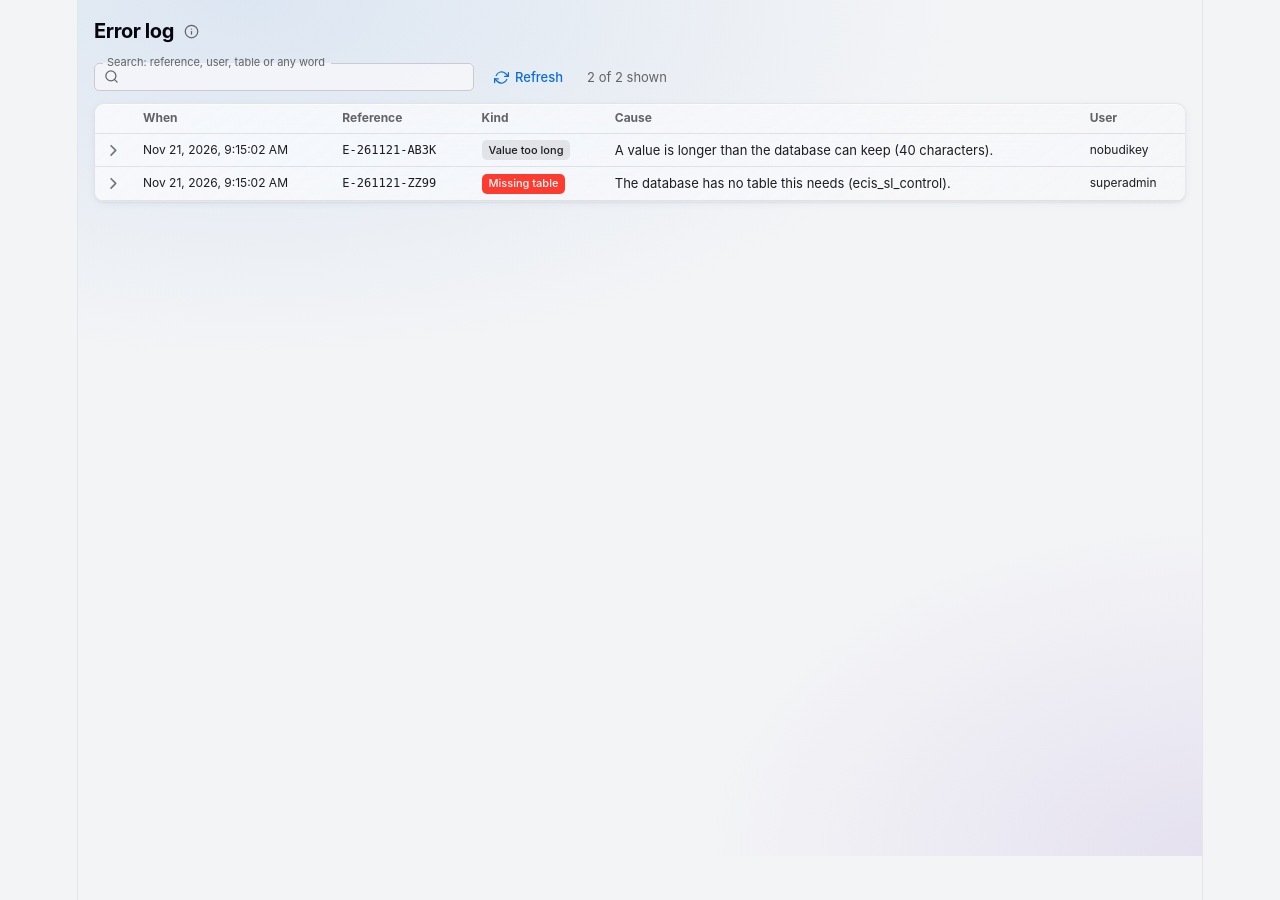
the error log › lists failures with their technical cause, finds one by the reference a person quotes, and opens its details
Expected: the text "A value is longer than the database can keep (40 characters)." is shown, left=603, top=133, right=1078, bottom=167
Expected: the text "Missing table" is shown, left=488, top=176, right=558, bottom=190
Type "E-261121-ZZ99" into the field labelled "Search: reference, user, table or any word" at coordinates (300, 77), box left=127, top=63, right=474, bottom=91
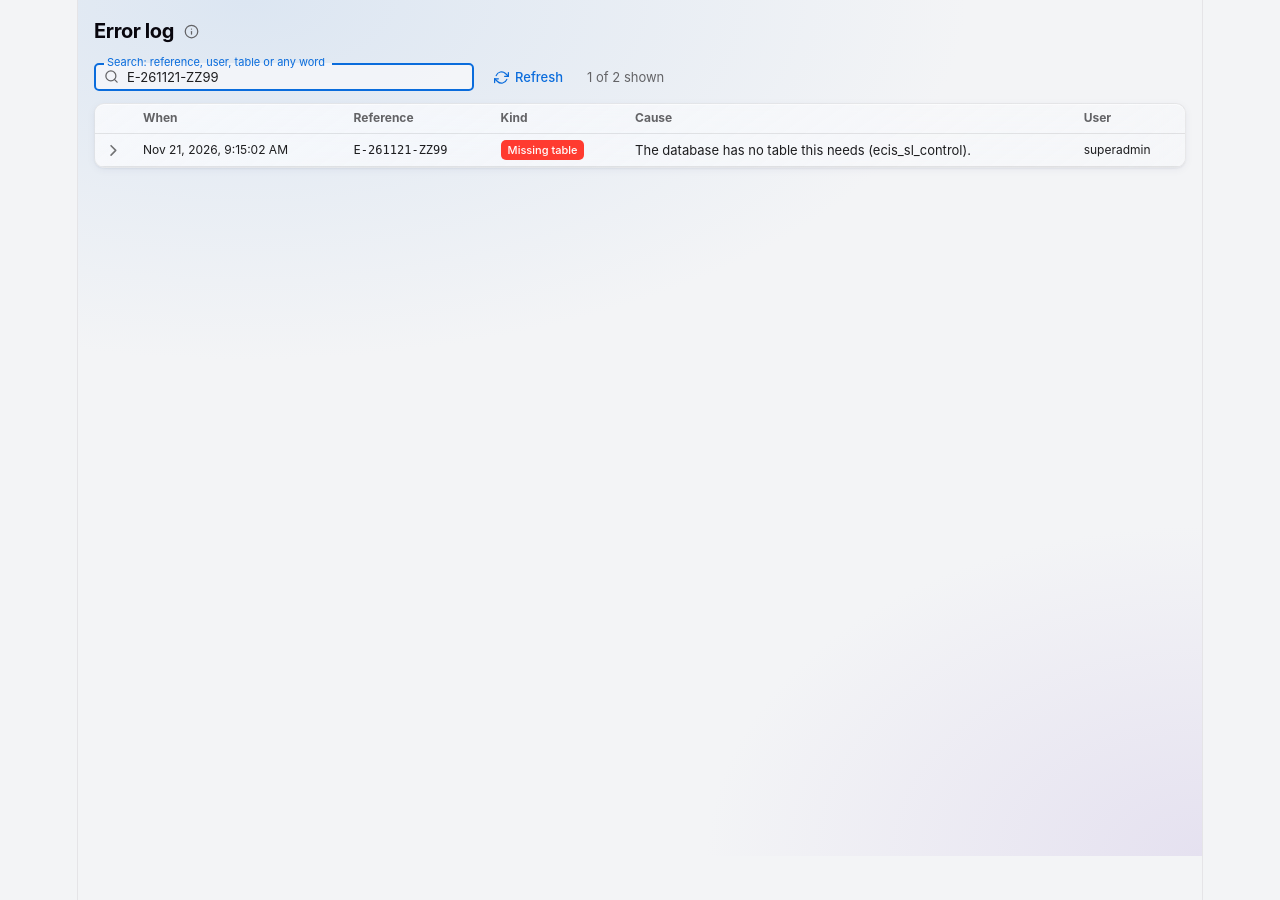
Result: the text "E-261121-AB3K" is gone
Result: the text "1 of 2 shown" is shown at left=587, top=68, right=664, bottom=86
Click the button named "Show the details of E-261121-ZZ99" at coordinates (113, 150), box left=99, top=136, right=128, bottom=164
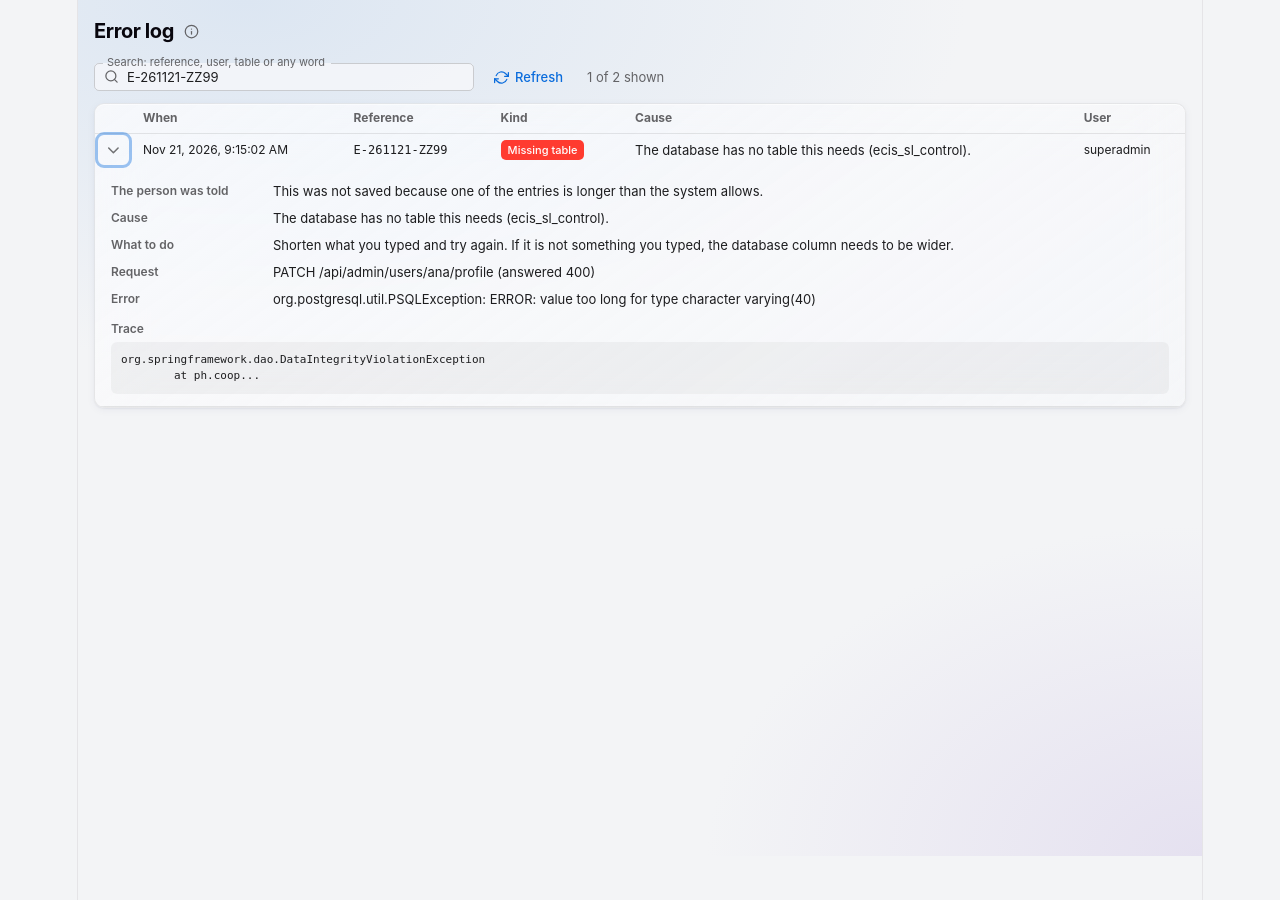
Result: the text "This was not saved because one of the entries is longer than the system allows." is shown at left=273, top=183, right=763, bottom=199
Result: the text "PATCH /api/admin/users/ana/profile (answered 400)" is shown at left=273, top=264, right=595, bottom=280
Result: the text "DataIntegrityViolationException" is shown at left=121, top=353, right=485, bottom=382
